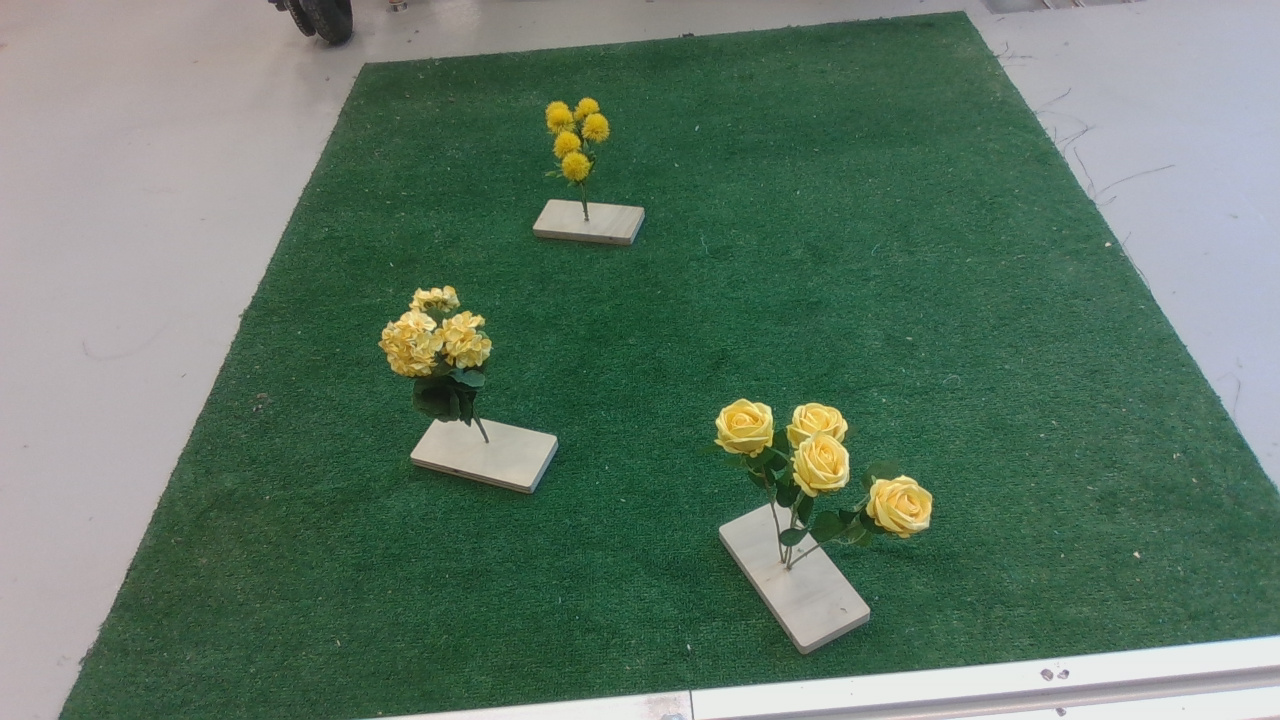dandelion: (543, 94, 625, 200)
geranium: (374, 283, 503, 431)
rose: (701, 398, 944, 567)
